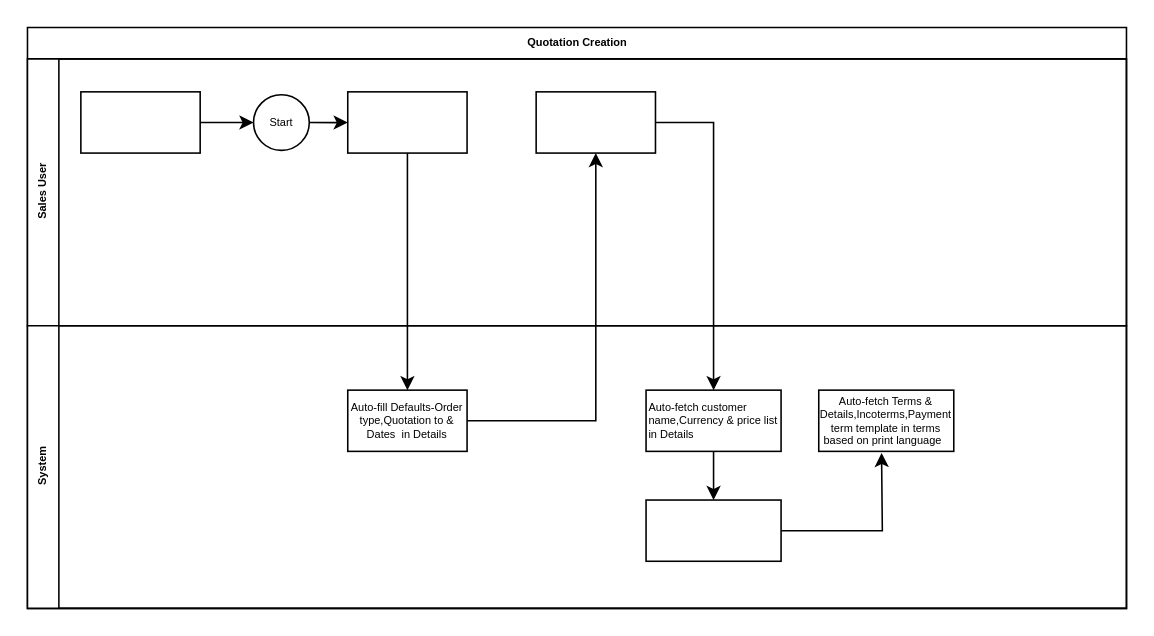
This 1154x636 diagram has some shape labels left out. The shapes that lost their labels are listed below. From the top down, each one's centre as x and y in pixels, then its label:
point 139,121: Ensure Terms & Conditions for languages
point 406,121: Open Quotation form
point 595,121: Select Customer
point 712,529: Auto-fetch Billing,shipping & company address
